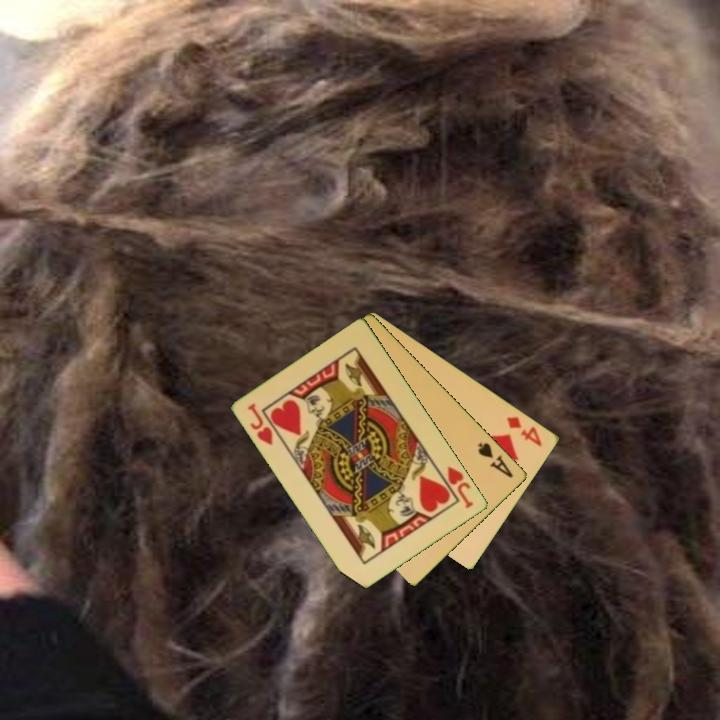4d: (503, 413, 545, 449)
As: (475, 439, 516, 481)
Jh: (435, 463, 477, 511), (244, 400, 276, 448)
